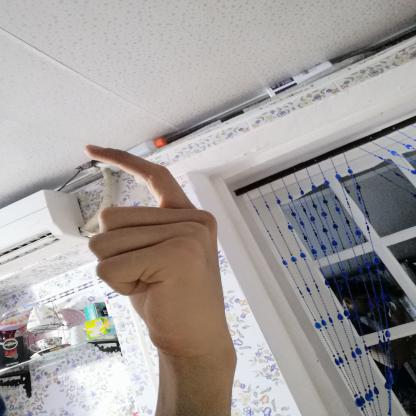RAA: (69, 135, 248, 364)
